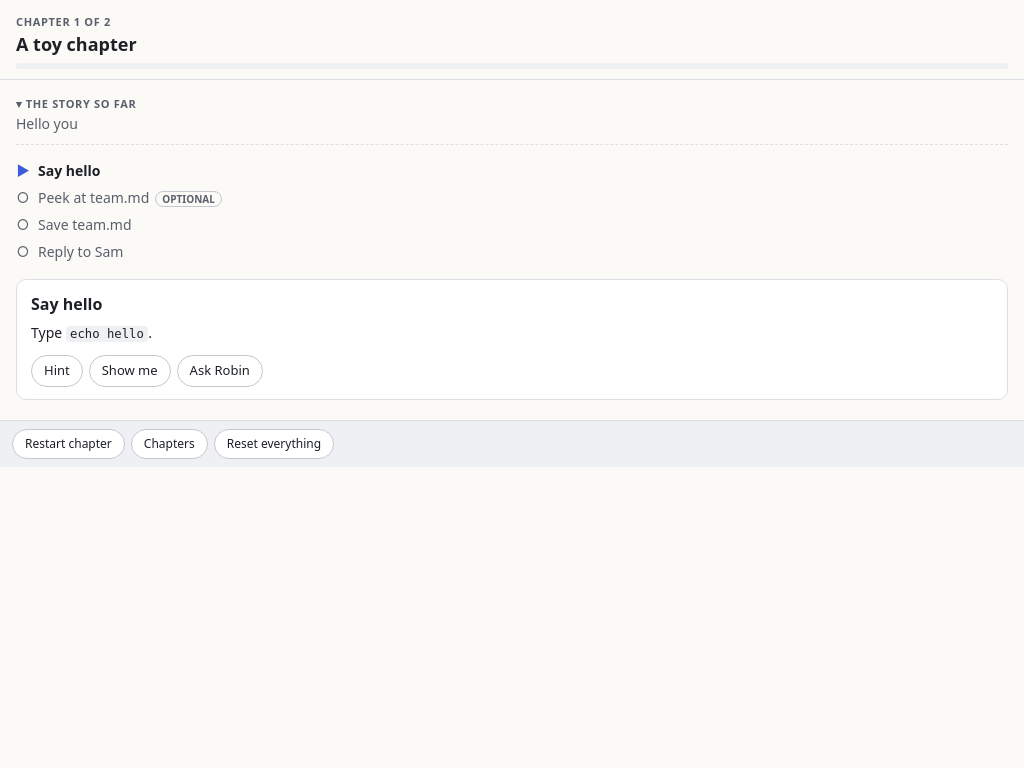
Instructions panel › shows every command, one per line, when a step needs several
The width and height of the screenshot is (1024, 768).
Click the button "Show me" at (130, 371), box [89, 355, 171, 387]
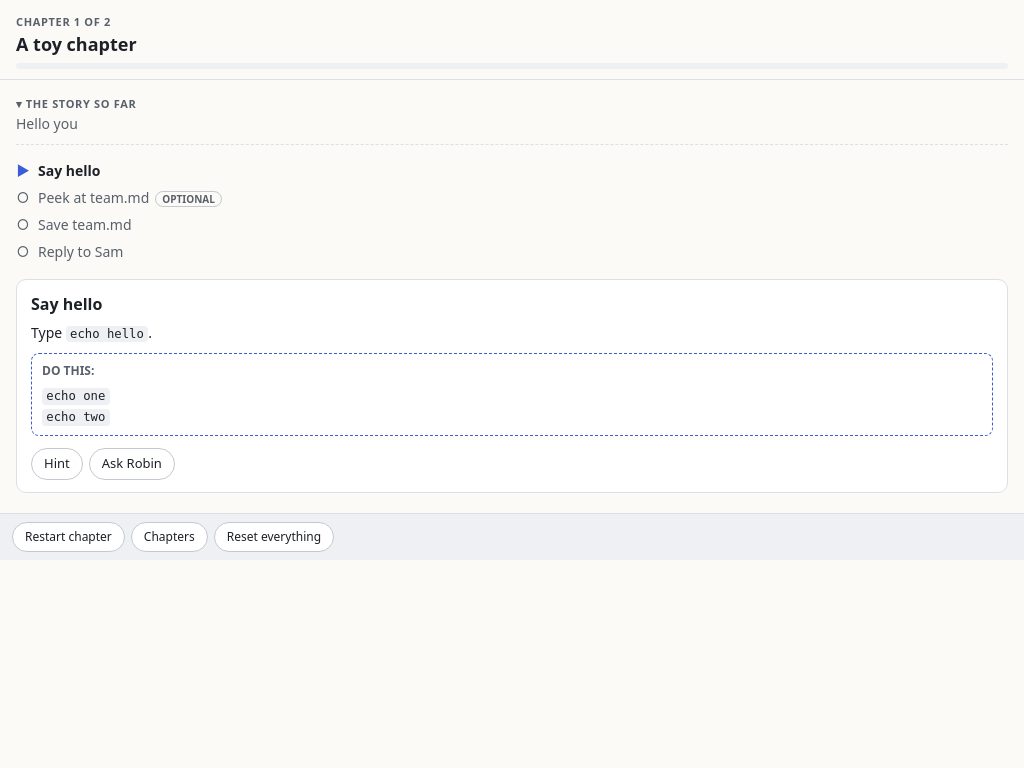
Expected: the elements "echo " read "echo one", "echo two", in this order, [42, 388, 110, 405]; [42, 409, 110, 426]
